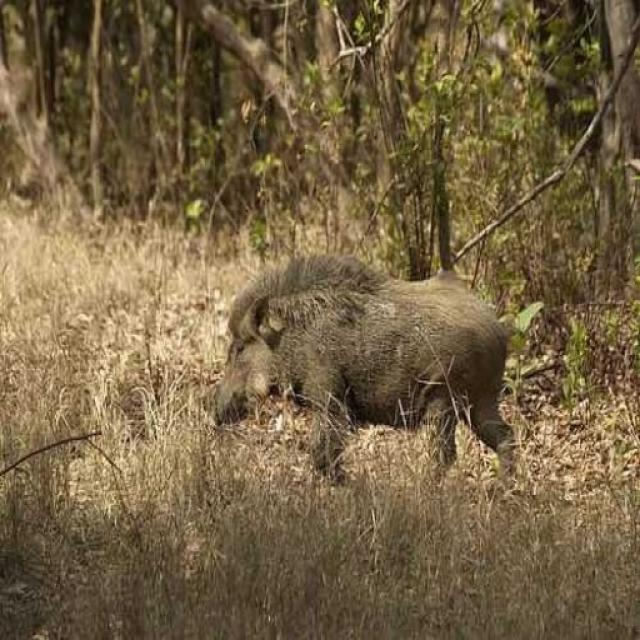pig: (188, 221, 572, 513)
